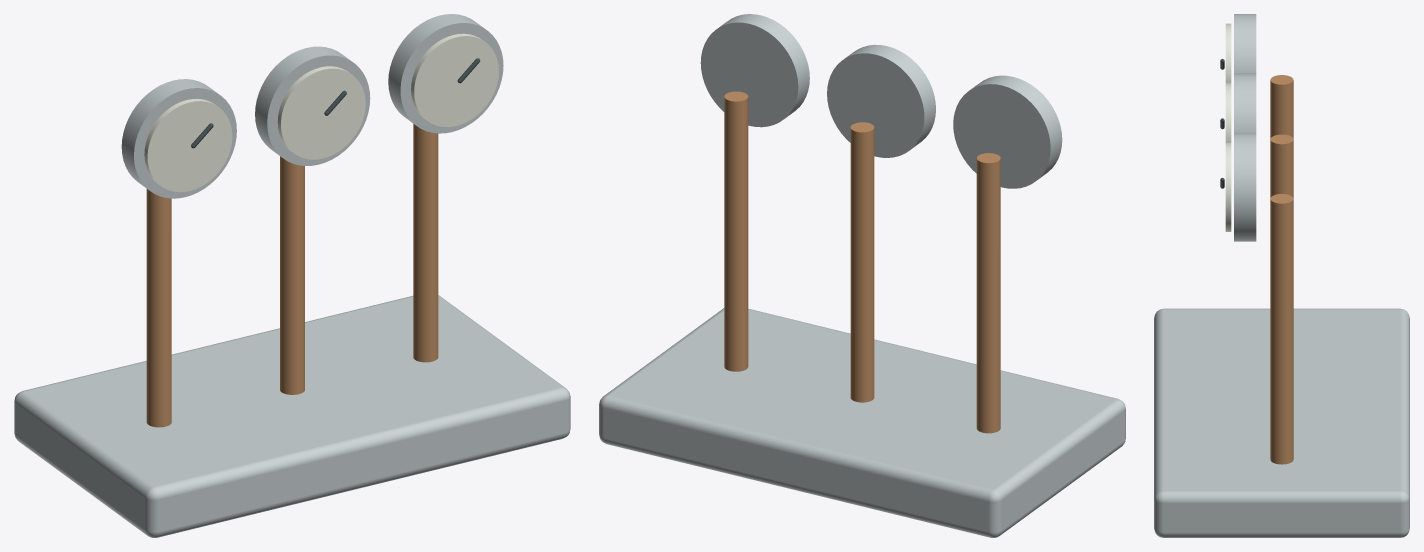
File: hydroelectric-dam-infiltration-pressure-gauge-manifold-e6ddf96c__29363.glb
3 renders of one model, left to right at view 1: azimuth 30°, elevation 25°; view 2: azimuth 150°, elevation 25°; view 3: azimuth 270°, elevation 25°, orthographic. The views are drawn at different scales.
Visible parts, largest first — view 1: pressure-gauge-manifold; view 2: pressure-gauge-manifold; view 3: pressure-gauge-manifold.
Boxes of the visible parts, <box> form: pressure-gauge-manifold: <box>14,14,570,537</box>; pressure-gauge-manifold: <box>599,14,1125,537</box>; pressure-gauge-manifold: <box>1154,14,1409,537</box>.
Bounding box in the file's own units: 0.7 × 0.635 × 0.4.
